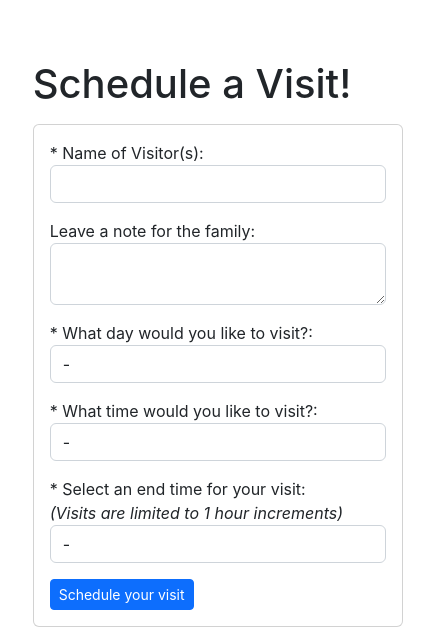
Test: VisitorForm component › should handle form submission and navigate
The width and height of the screenshot is (431, 644).
In the field labelled "* Name of Visitor(s):": (218, 184) [50,165,386,203], type "Test Visitor"
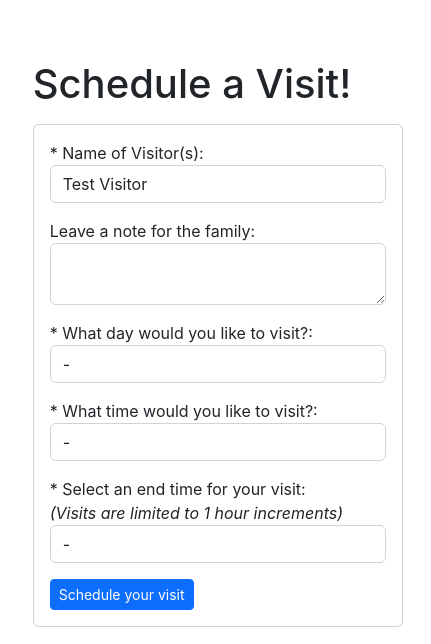
In the text box labelled "Leave a note for the family:": (218, 274) [50,243,386,305], type "Hello"
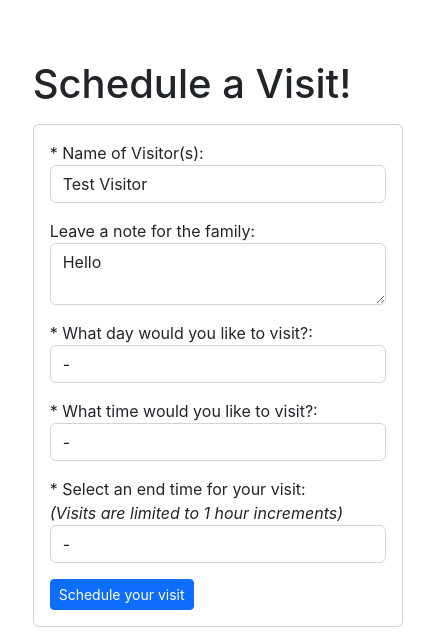
Select "01-01-2023" in the dropdown labelled "* What day would you like to visit?:": (218, 364) [50,345,386,383]
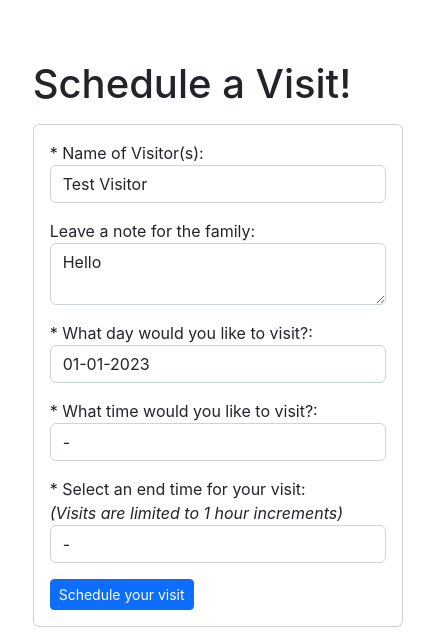
Select "1:00 AM" in the dropdown labelled "* What time would you like to visit?:": (218, 442) [50,423,386,461]
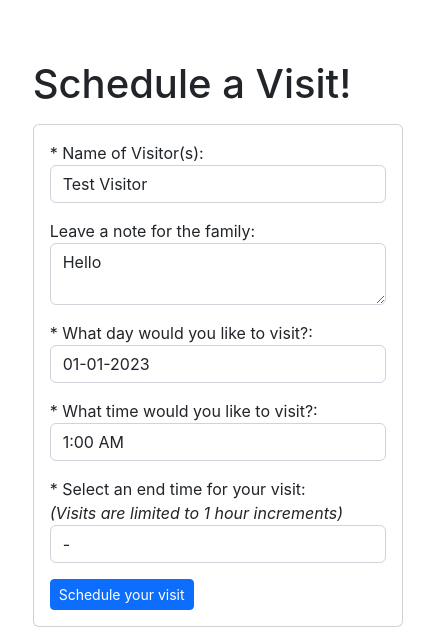
Select "2:00 AM" in the dropdown labelled "Select an end time for your visit": (218, 544) [50,525,386,563]
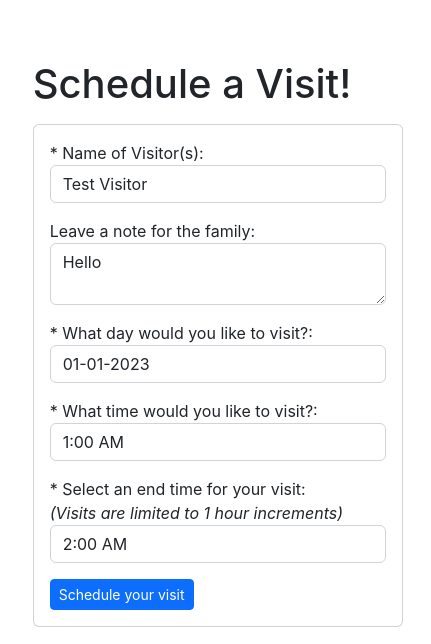
Click the button "Schedule your visit": (122, 594) [50,579,194,610]
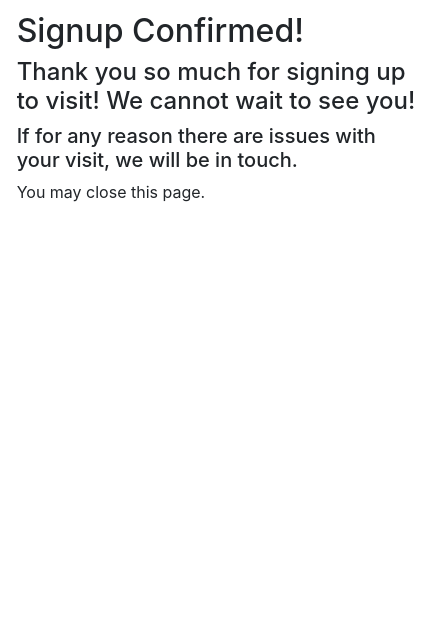
Expected: the heading "Signup Confirmed!" is shown, [17,11,304,50]
